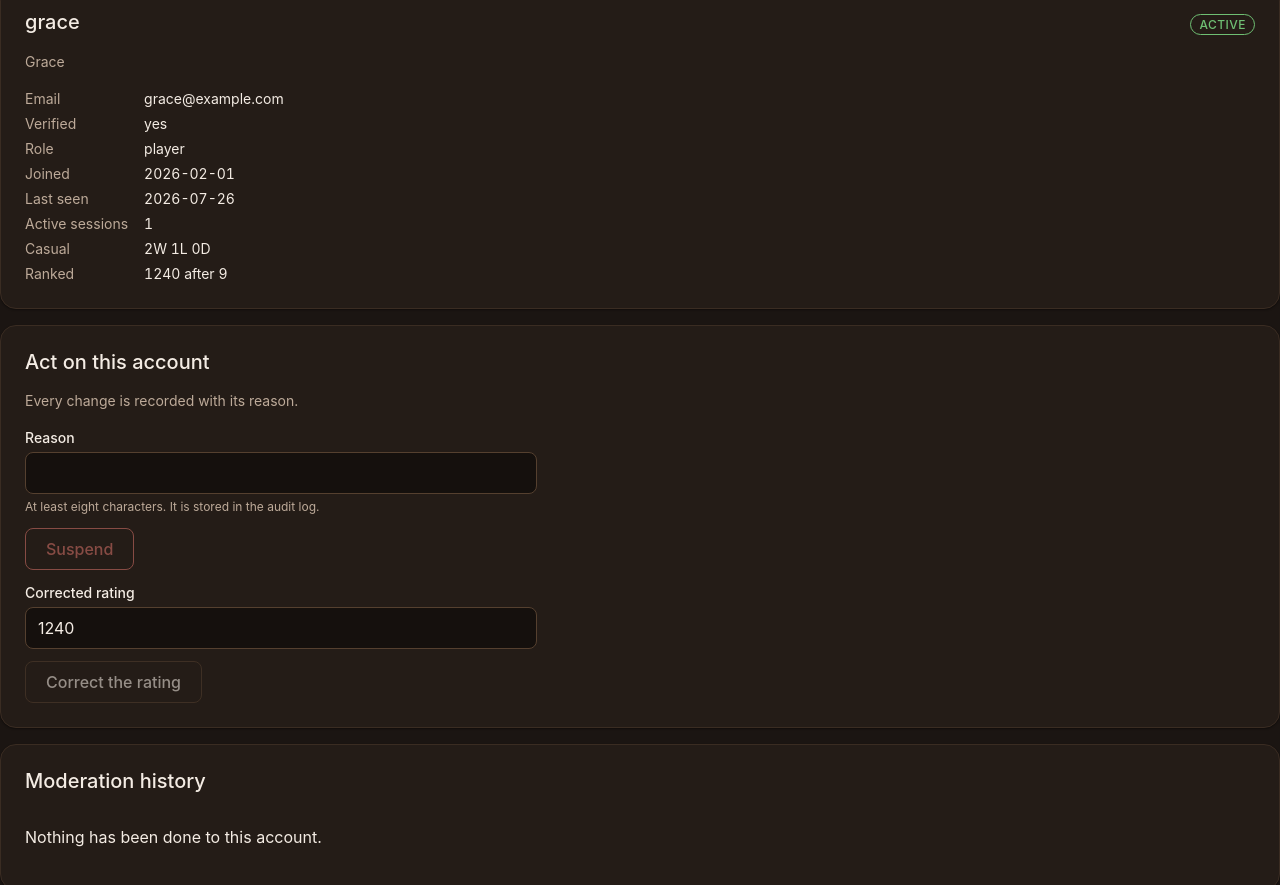
Test: one account › suspends only once a reason has been given, and shows what followed
expect the button with test id "admin-suspend" is disabled: met, box [25,528,134,570]
Type "abusive messages" into the field with test id "admin-reason".
click(281, 473); type("abusive messages")  # box [25,452,537,494]
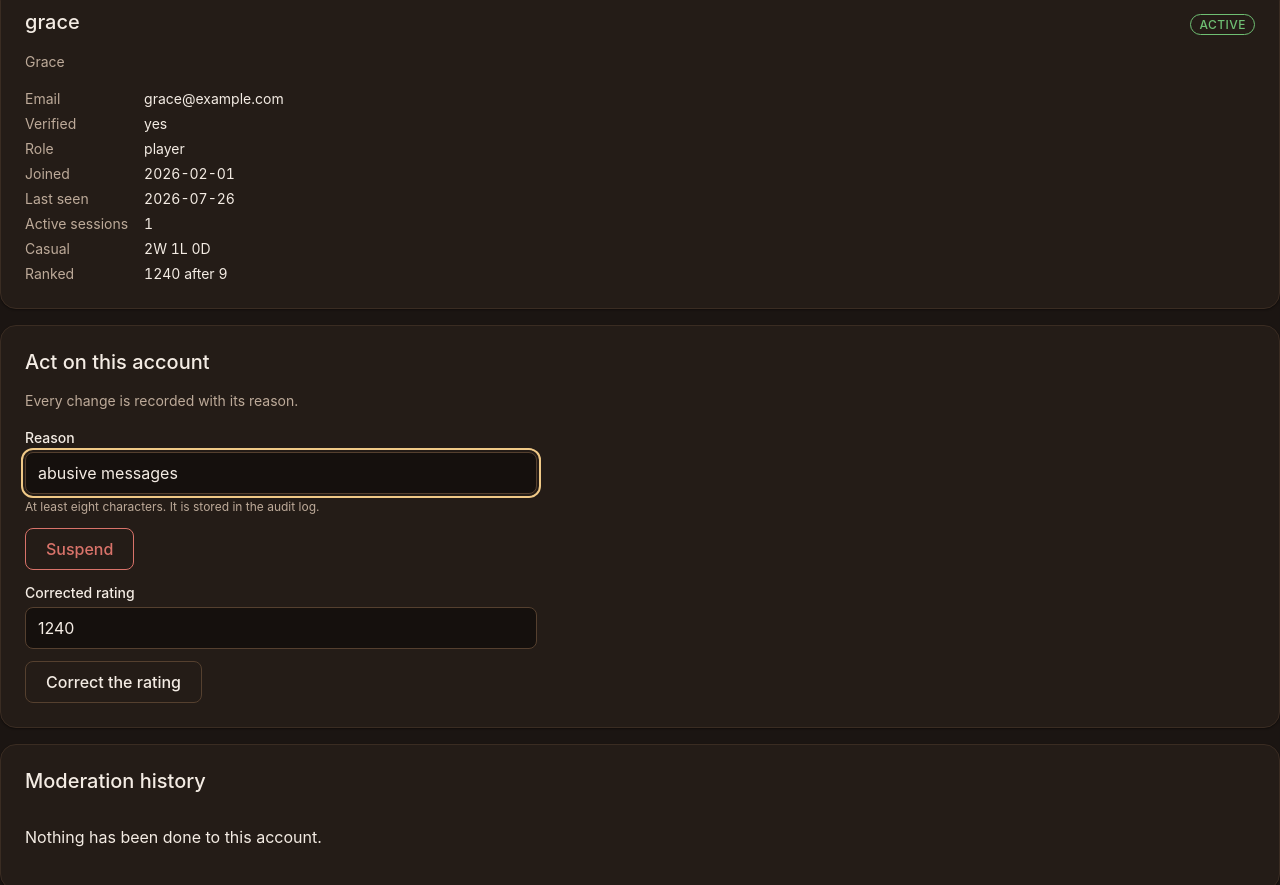
expect the button with test id "admin-suspend" is enabled: met
Click the button with test id "admin-suspend".
click(80, 549)  # box [25,528,134,570]
(page scrolled)
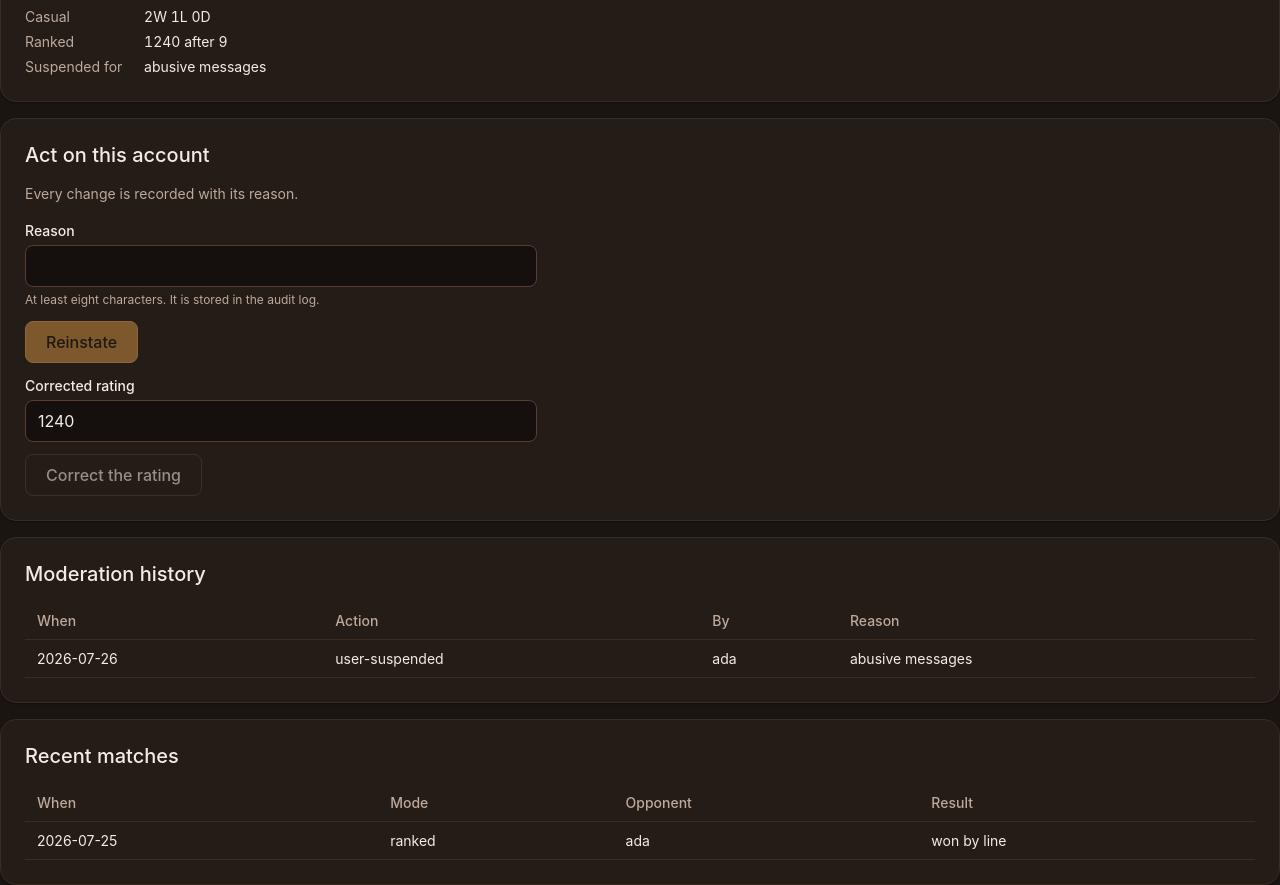
expect the button with test id "admin-reinstate" is shown: met, box [25,321,138,363]
expect the text with test id "admin-user-suspended-reason" reads "abusive messages": met, box [144,58,266,75]
expect the text "user-suspended" is shown: met, box [323,640,700,678]
